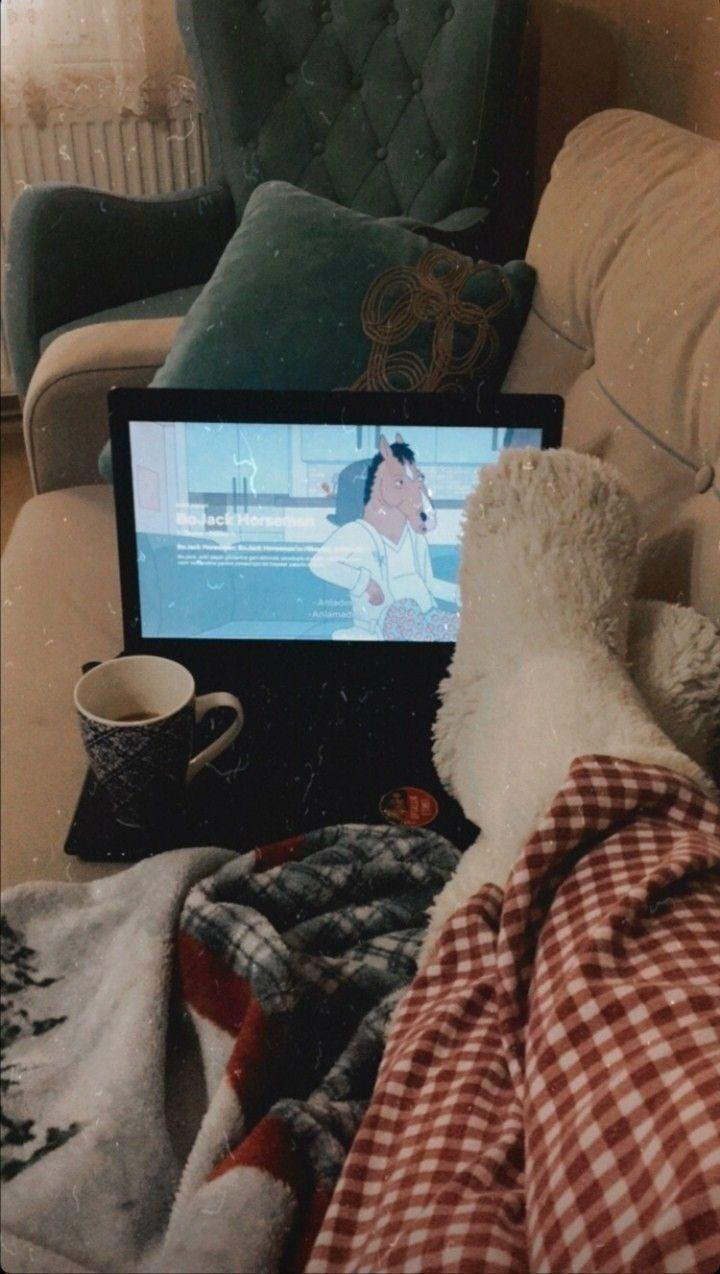cup-handle: (73, 654, 246, 831)
